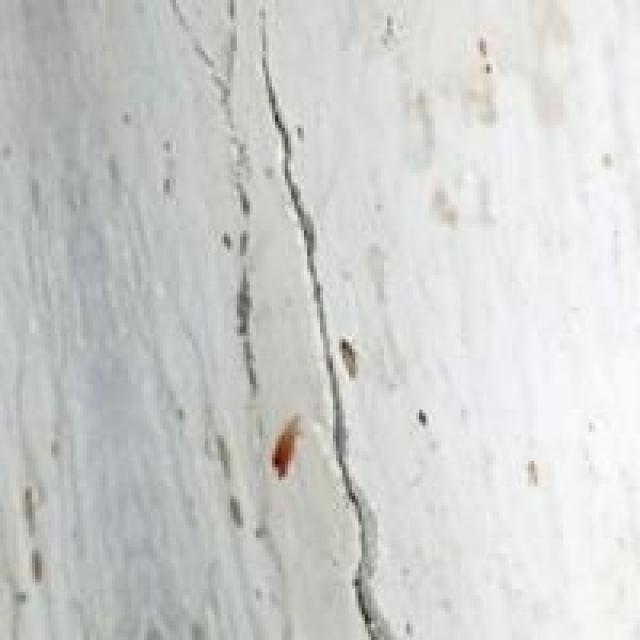crack: (208, 0, 464, 637)
